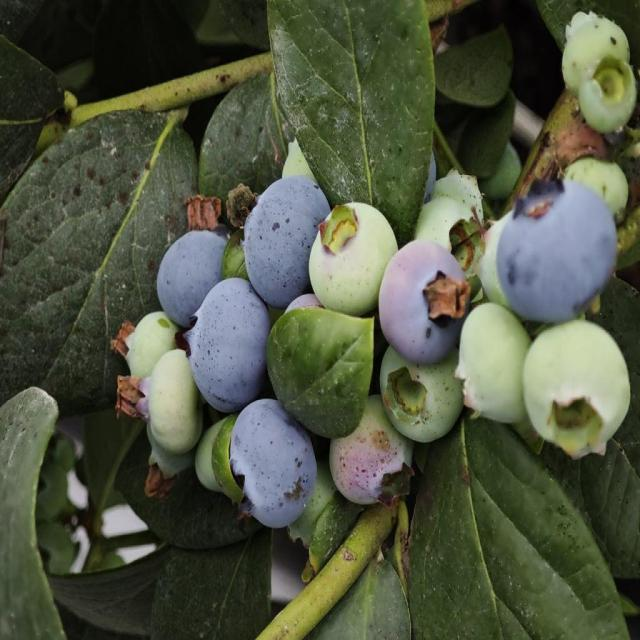RipeBlueBerry: (495, 174, 619, 324), (242, 172, 332, 309), (182, 274, 270, 414), (229, 398, 320, 531), (156, 228, 236, 330)
Semi-RipeBlueBerry: (378, 235, 471, 366)
UnripeBlueBerry: (522, 322, 632, 462), (308, 196, 397, 313), (327, 392, 415, 508), (457, 300, 532, 427), (378, 344, 462, 446), (136, 348, 204, 458)
